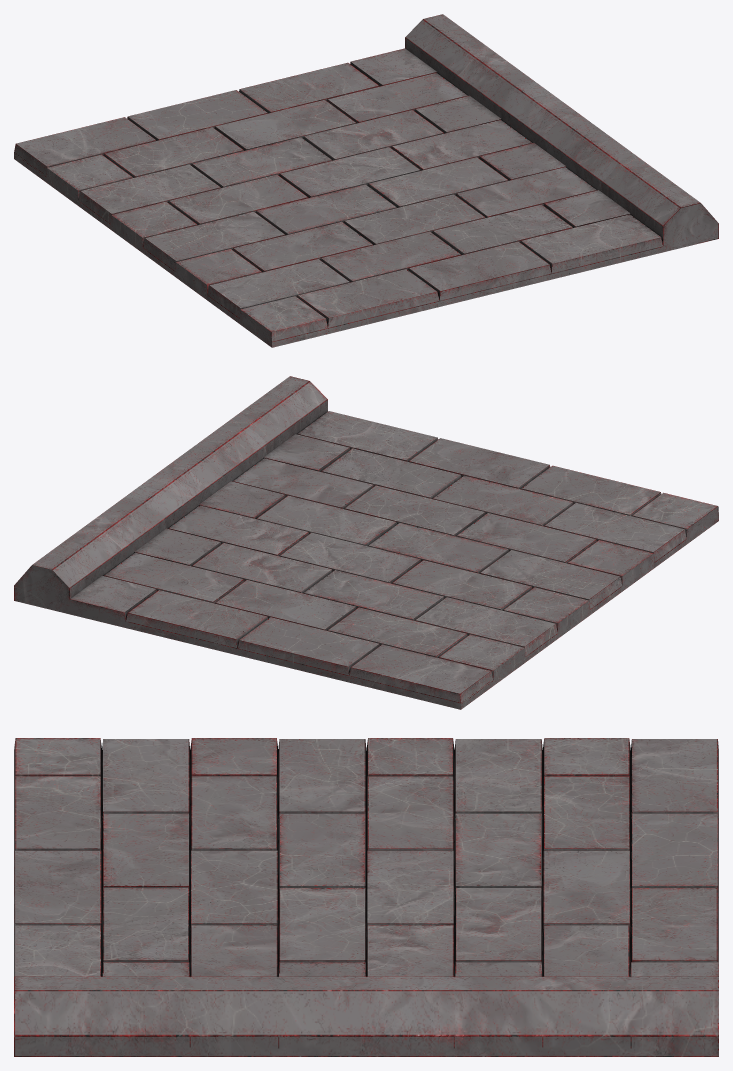
File: Sidewalk_side.fbx
3 renders of one model, top to bottom at view 1: azimuth 30°, elevation 25°; view 2: azimuth 150°, elevation 25°; view 3: azimuth 270°, elevation 25°, orthographic. The views are drawn at different scales.
Visible parts, largest first — view 1: bok; view 2: bok; view 3: bok.
Part boxes in pixels (<box>): bok: <box>14,14,718,347</box>; bok: <box>14,376,718,709</box>; bok: <box>14,738,718,1056</box>.
Bounding box in the file's own units: 300 × 25.78 × 300.
1 material, 1 textured.
